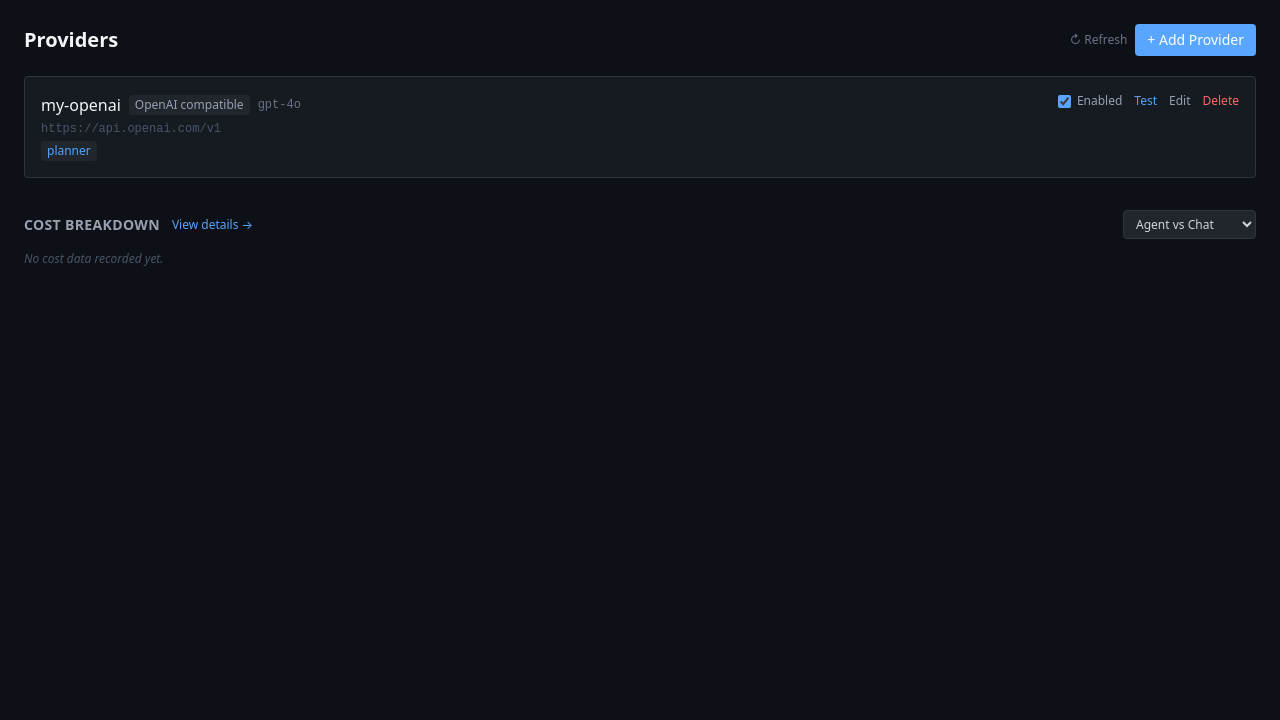
Providers — roles multi-select › shows roles select in the create form with all role options
The image size is (1280, 720).
Click the button "+ Add Provider".
click(1196, 40)  # box [1135,24,1256,56]
(page scrolled)
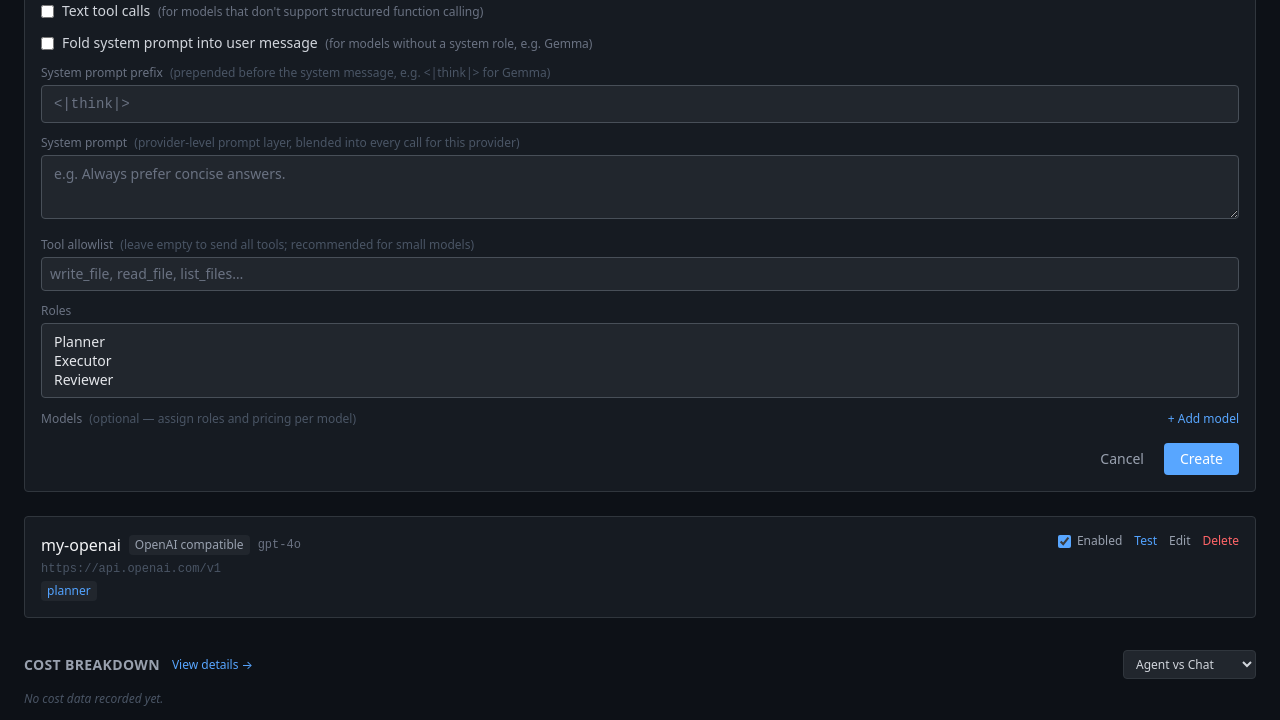
expect the text "planner" is shown: met, box [41,581,97,601]
expect the dropdown labelled "Roles" is shown: met, box [41,323,1239,398]
